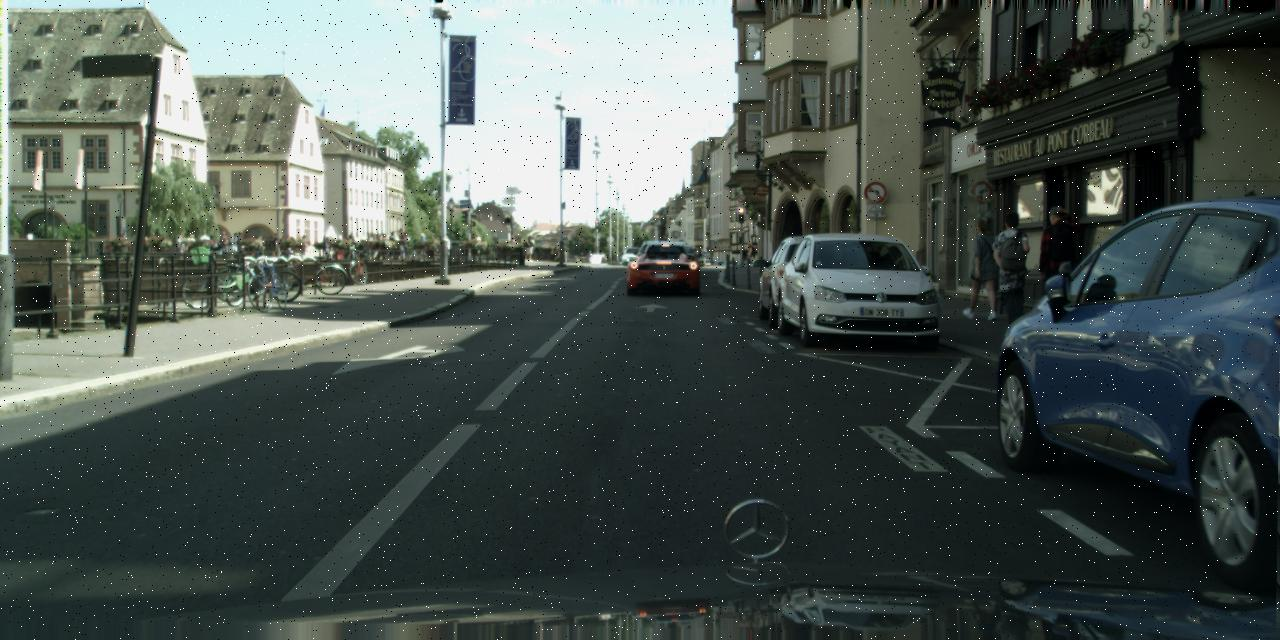ped: (989, 210, 1036, 327), (1035, 206, 1082, 322), (961, 219, 1002, 319), (396, 227, 408, 258), (386, 231, 397, 258), (508, 237, 519, 264), (417, 232, 427, 258), (472, 233, 482, 259), (524, 234, 534, 260), (321, 234, 331, 258), (378, 234, 388, 258), (746, 240, 755, 264), (253, 235, 262, 257), (271, 233, 280, 255), (220, 230, 228, 251), (554, 239, 562, 260), (230, 232, 238, 252), (235, 232, 243, 252), (587, 250, 591, 262), (600, 252, 604, 262)
